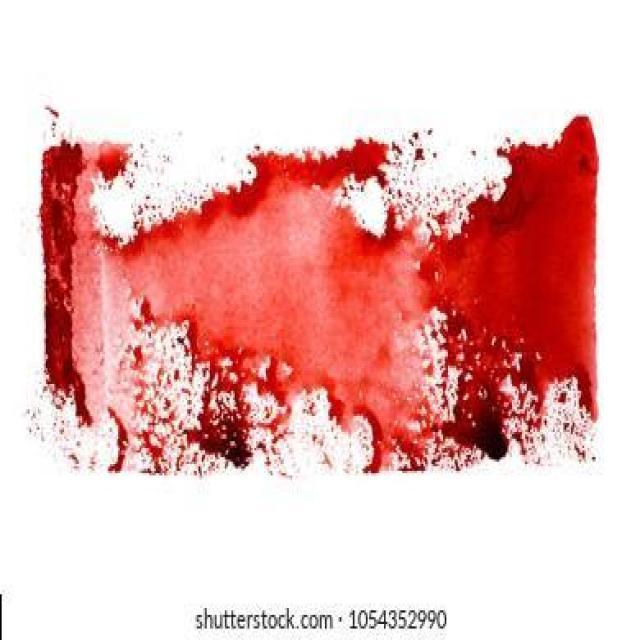flood: (33, 122, 608, 484)
